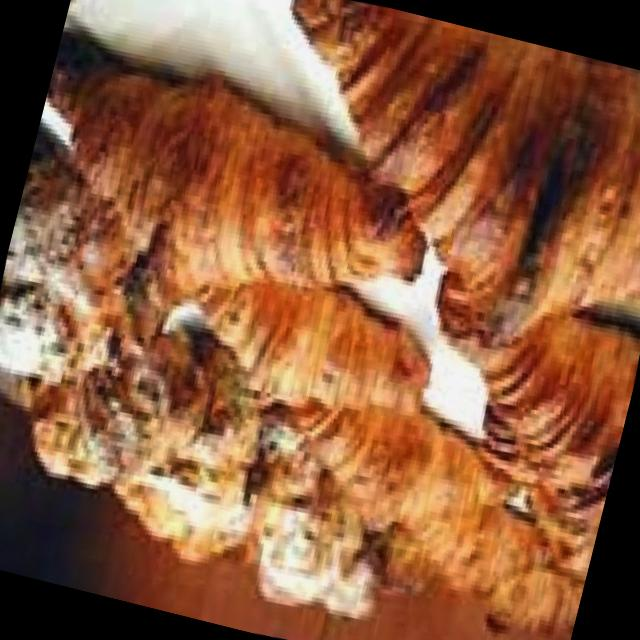Croissant: (0, 5, 482, 390)
